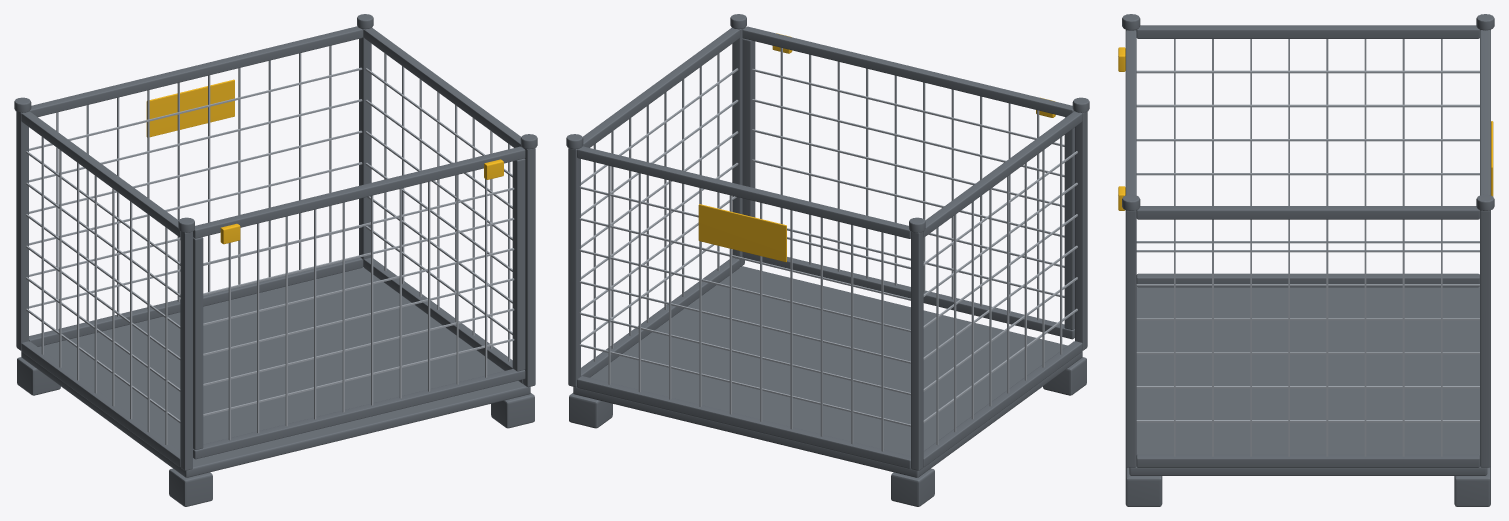
File: cage.glb
3 renders of one model, left to right at view 1: azimuth 30°, elevation 25°; view 2: azimuth 150°, elevation 25°; view 3: azimuth 270°, elevation 25°, orthographic. The views are drawn at different scales.
Visible parts, largest first — view 1: cage_body_geo, gate_geo; view 2: cage_body_geo, gate_geo; view 3: cage_body_geo, gate_geo.
Boxes of the visible parts, x1,y1,x2,y2 form: cage_body_geo: (14,14,537,506); gate_geo: (193,146,525,459); cage_body_geo: (566,14,1089,506); gate_geo: (742,26,1074,339); cage_body_geo: (1122,14,1494,506); gate_geo: (1118,31,1136,210).
Bounding box in the file's own units: 1.22 × 0.93 × 1.03.
